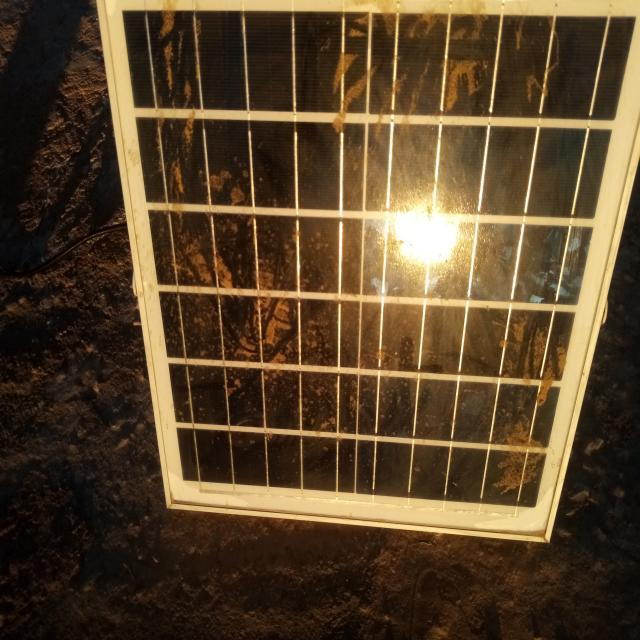faulty: (103, 2, 640, 544)
